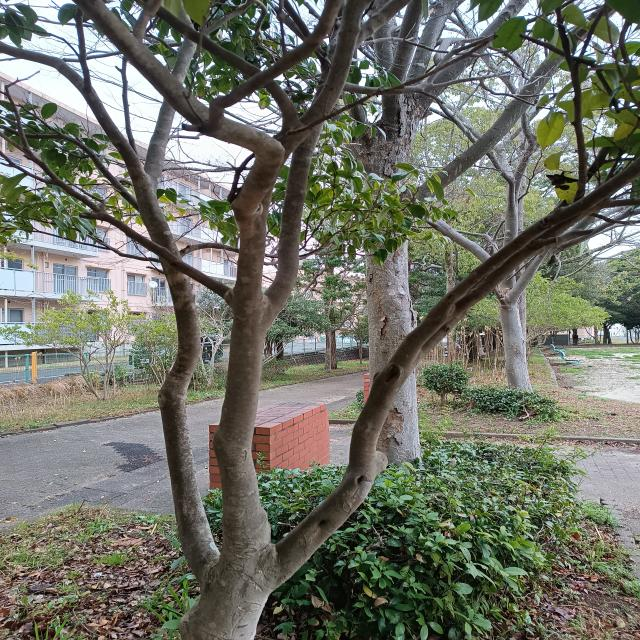Branch: (280, 309, 469, 586), (70, 0, 284, 215), (136, 175, 221, 578), (212, 296, 281, 552), (267, 127, 320, 307), (235, 198, 268, 306)
Twig: (439, 156, 639, 306), (53, 174, 234, 299), (134, 0, 298, 128), (1, 43, 145, 178), (202, 0, 346, 128), (460, 208, 601, 309), (280, 1, 375, 150), (2, 125, 138, 210), (342, 37, 490, 95), (146, 41, 197, 183), (8, 87, 53, 178), (430, 72, 506, 90), (357, 37, 444, 52), (1, 154, 43, 182)
